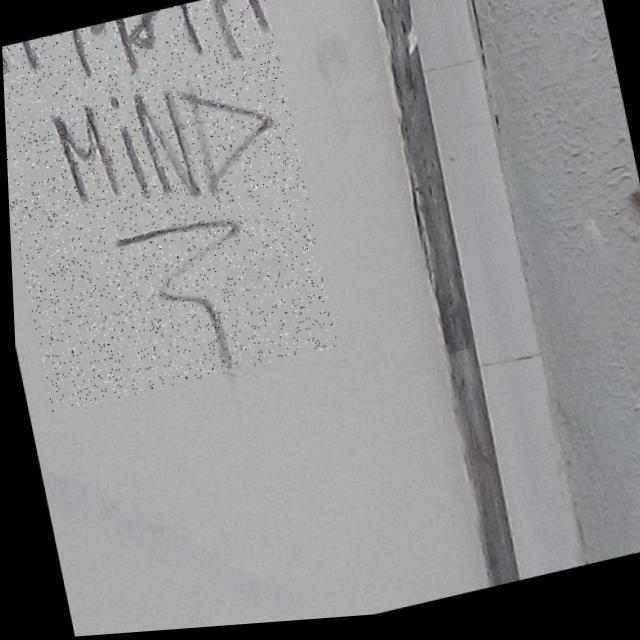-: (1, 0, 336, 416)
